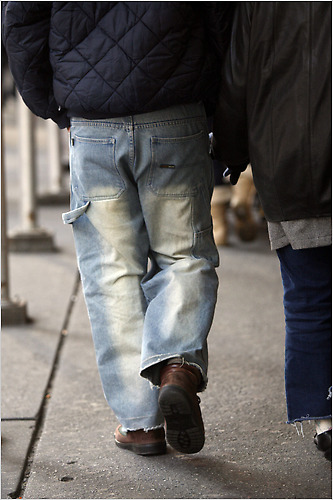jeans: (55, 106, 240, 429), (253, 222, 331, 436)
